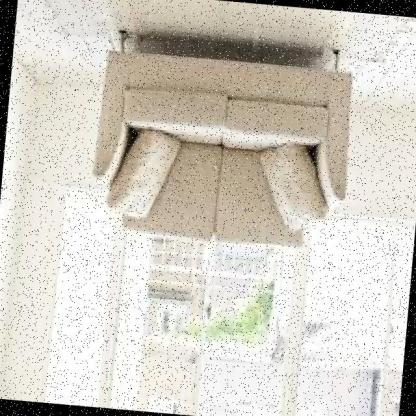Sofa: (68, 13, 382, 273)
